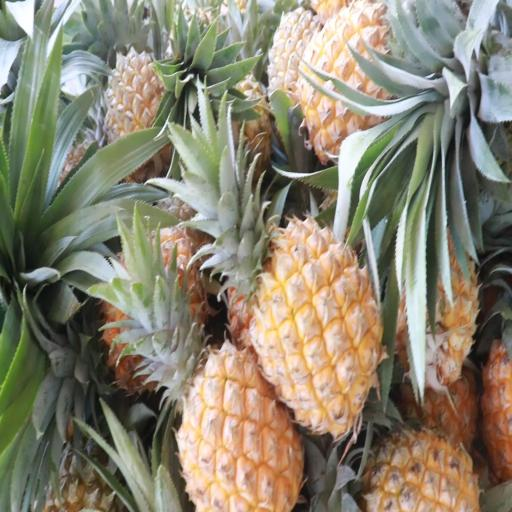Pineapple - v8 v1: (236, 216, 388, 430), (296, 6, 437, 164), (174, 349, 298, 512)
